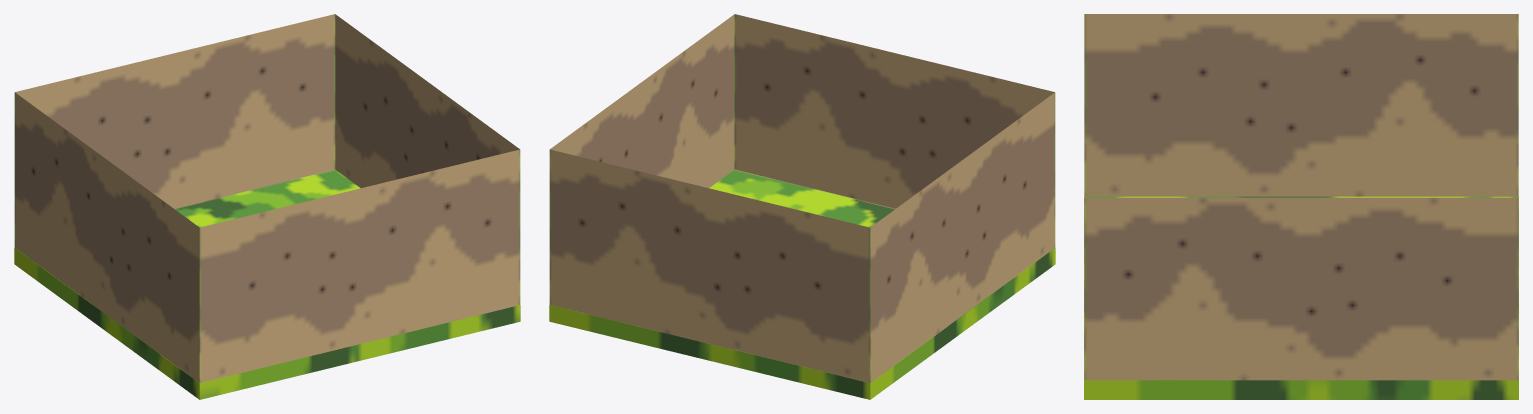
File: mudBlock.fbx
3 renders of one model, left to right at view 1: azimuth 30°, elevation 25°; view 2: azimuth 150°, elevation 25°; view 3: azimuth 270°, elevation 25°, orthographic. The views are drawn at different scales.
Visible parts, largest first — view 1: Mud, Grass; view 2: Mud, Grass; view 3: Mud, Grass.
Boxes of the visible parts, x1,y1,x2,y2 form: Mud: (14,14,520,382); Grass: (14,169,520,399); Mud: (549,14,1055,382); Grass: (549,169,1055,399); Mud: (1084,14,1518,380); Grass: (1084,196,1518,399).
Size of the model in its own units: 20.02 by 10.27 by 20.02.
